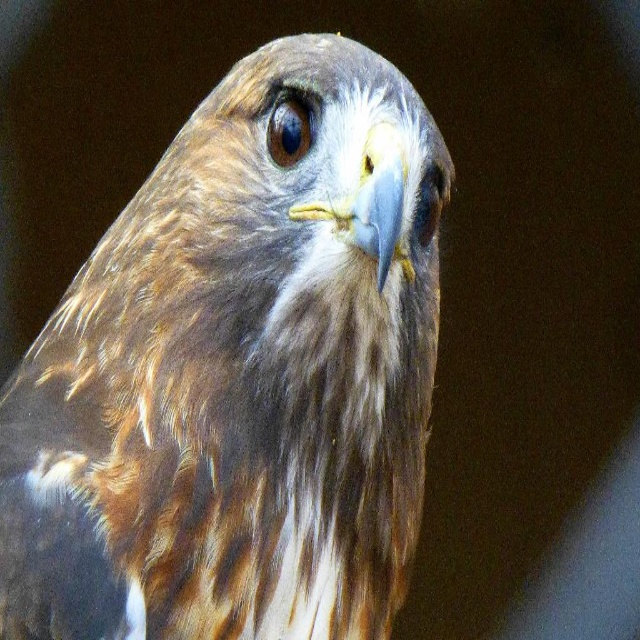Eagle: (0, 31, 456, 639)
